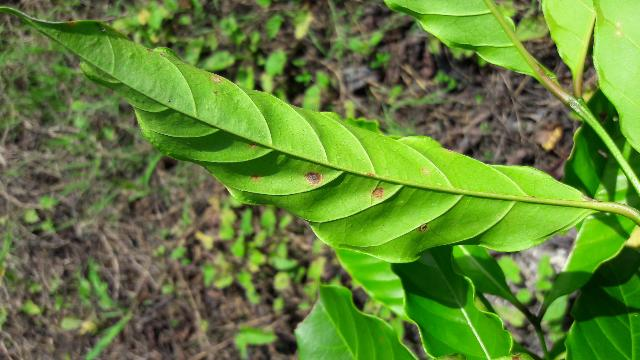red_spider_mite: (46, 30, 589, 261)
